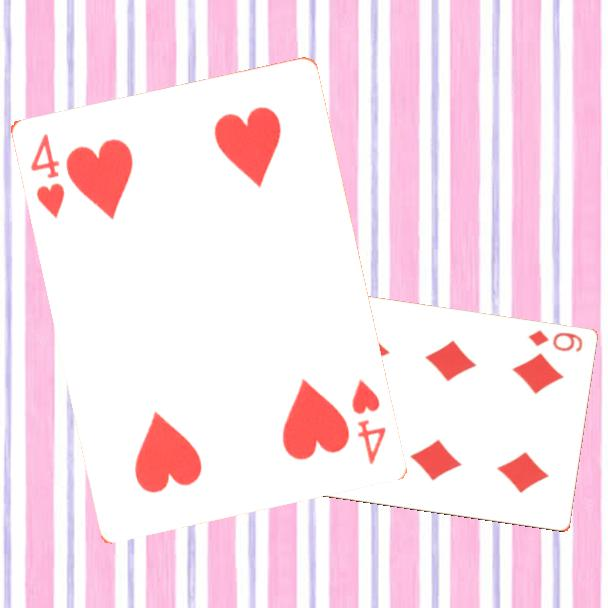d06: (524, 327, 585, 355)
h04: (26, 129, 67, 221), (347, 375, 388, 467)
